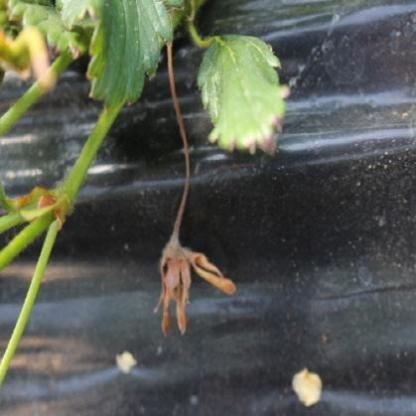Strawberry_Gray_Mold: (154, 226, 236, 336)
